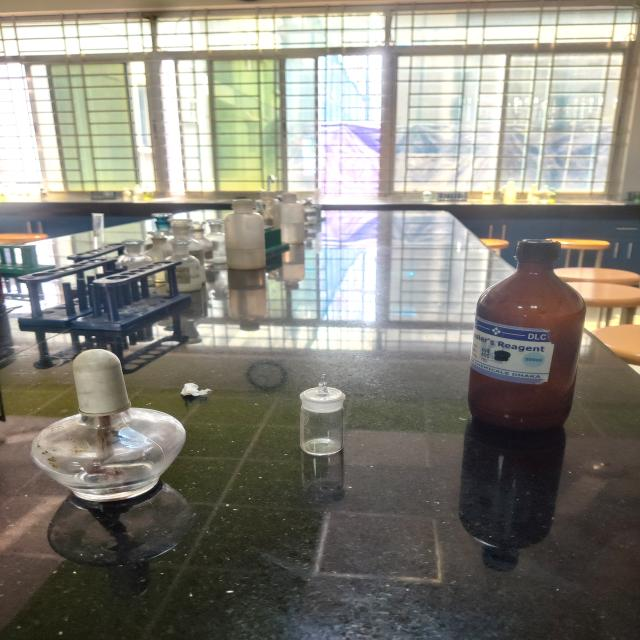Nessler_Reagent_Bottle: (440, 212, 614, 462)
Spirit_Lamp: (15, 336, 211, 522)
Weighing_Bottle: (271, 360, 378, 486)
